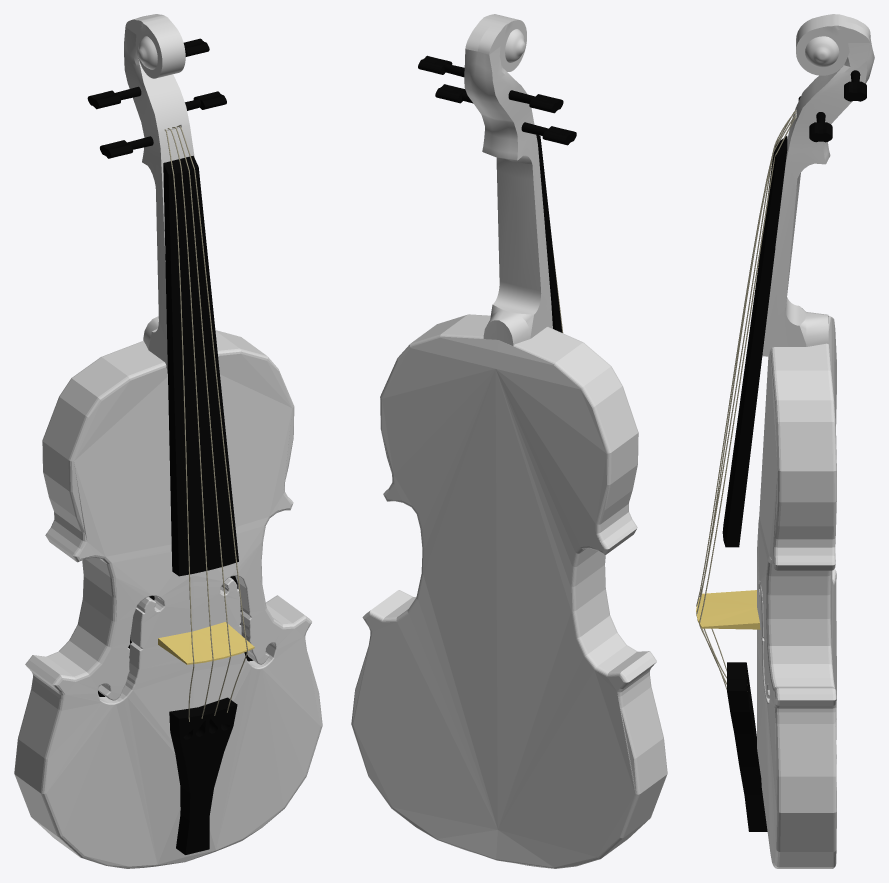
The model's file is Violin 1.fbx.
3 views of the same model, side by side, from view 1: azimuth 30°, elevation 25°; view 2: azimuth 150°, elevation 25°; view 3: azimuth 270°, elevation 25° (orthographic). The views are drawn at different scales.
Parts seen in each view (by area): view 1: BézierCurve, Cube, Cylinder, Cube.003, Cube.001, BézierCurve.006, BézierCurve.007, BézierCurve.008, BézierCurve.005, Cylinder.004, Cylinder.003; view 2: BézierCurve, Cylinder, Cube, Cylinder.003, Cylinder.004; view 3: BézierCurve, Cylinder, Cube, Cube.003, Cube.001, BézierCurve.008, BézierCurve.006, BézierCurve.007, BézierCurve.005, Cylinder.001, Cylinder.002.
Boxes of the visible parts, box(x1,y1,x2,y2) form: BézierCurve: box(14, 330, 322, 868); Cube: box(163, 155, 238, 576); Cylinder: box(124, 14, 194, 373); Cube.003: box(169, 697, 237, 854); Cube.001: box(158, 622, 254, 664); BézierCurve.006: box(167, 128, 213, 718); BézierCurve.007: box(172, 127, 231, 715); BézierCurve.008: box(176, 125, 247, 712); BézierCurve.005: box(164, 129, 194, 721); Cylinder.004: box(87, 86, 141, 109); Cylinder.003: box(100, 136, 153, 158); BézierCurve: box(351, 314, 667, 868); Cylinder: box(464, 14, 552, 345); Cube: box(536, 134, 562, 332); Cylinder.003: box(521, 122, 576, 145); Cylinder.004: box(508, 90, 563, 113); BézierCurve: box(757, 315, 836, 868); Cylinder: box(762, 14, 874, 356); Cube: box(722, 136, 787, 547); Cube.003: box(727, 662, 767, 831); Cube.001: box(696, 590, 760, 629); BézierCurve.008: box(699, 117, 796, 691); BézierCurve.006: box(696, 112, 796, 678); BézierCurve.007: box(696, 115, 796, 684); BézierCurve.005: box(699, 110, 796, 672); Cylinder.001: box(809, 112, 832, 142); Cylinder.002: box(844, 70, 866, 101).
Size of the model in its own units: 112 by 312 by 61.23.
